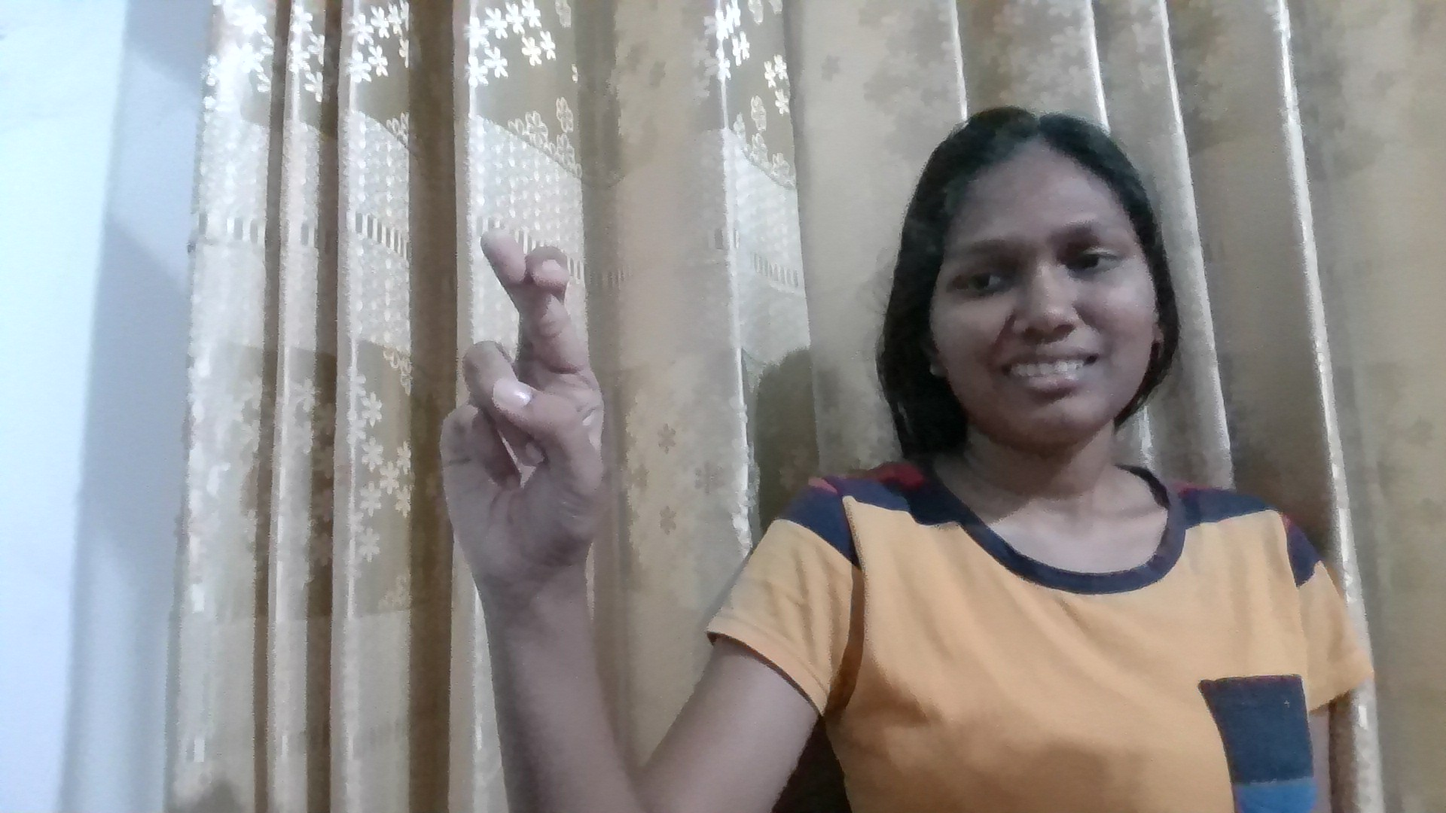Good_Luck: (337, 192, 752, 640)
